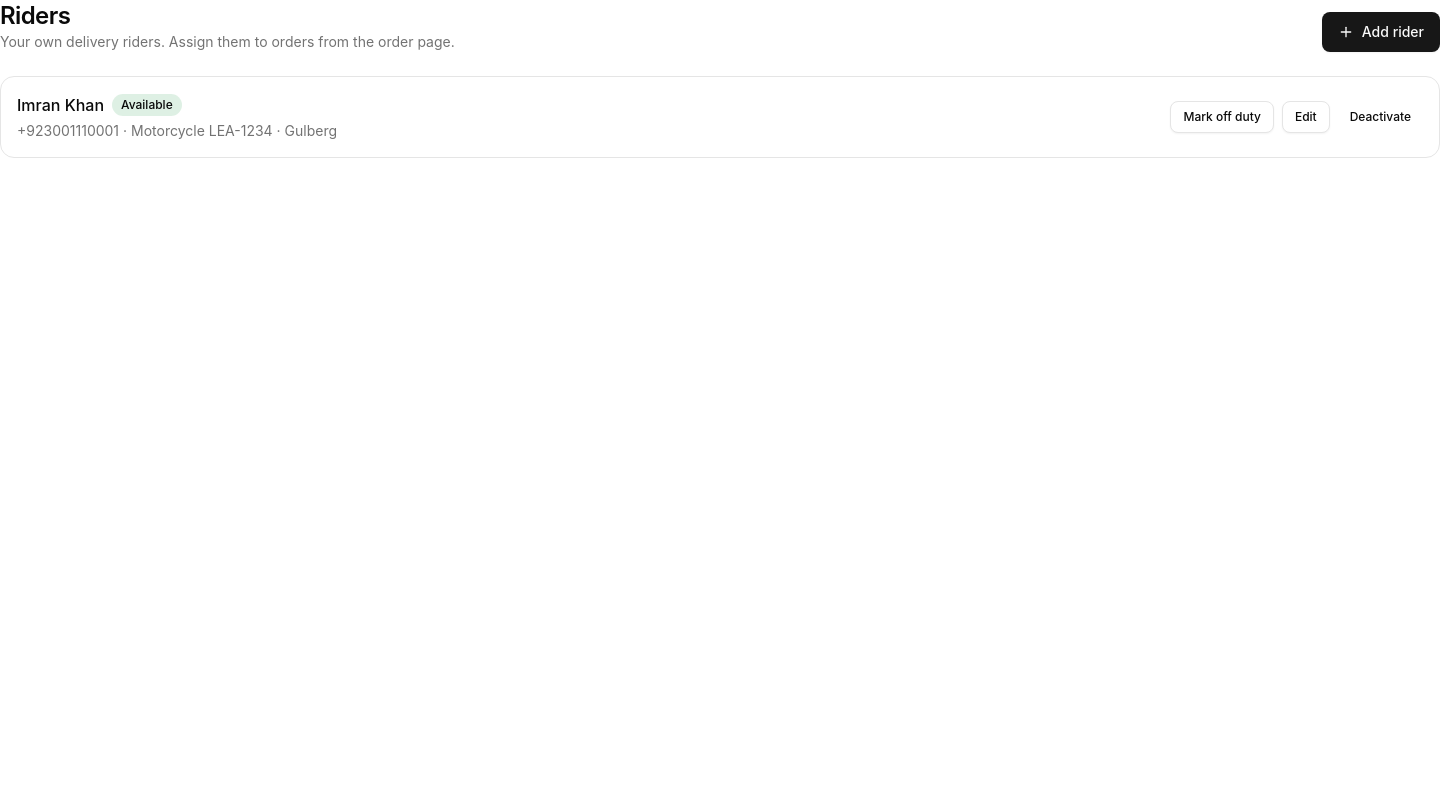
Scenario: RidersPage › adds a rider with a normalised phone number
The image size is (1440, 810).
Click the button "Add rider" at (1381, 32), box [1322,12,1439,52]
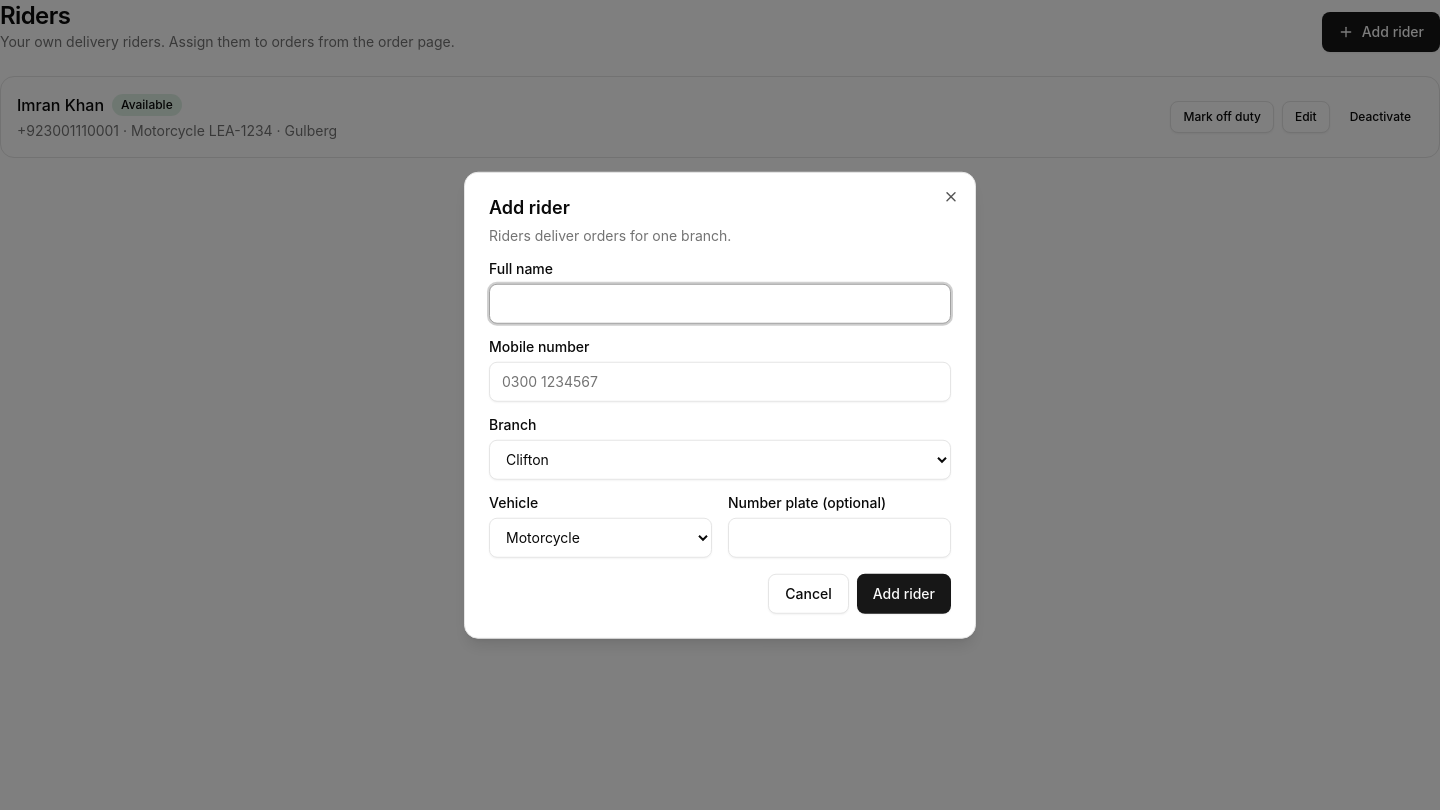
Click the button "Add rider" at (904, 593), box [857,573,951,613]
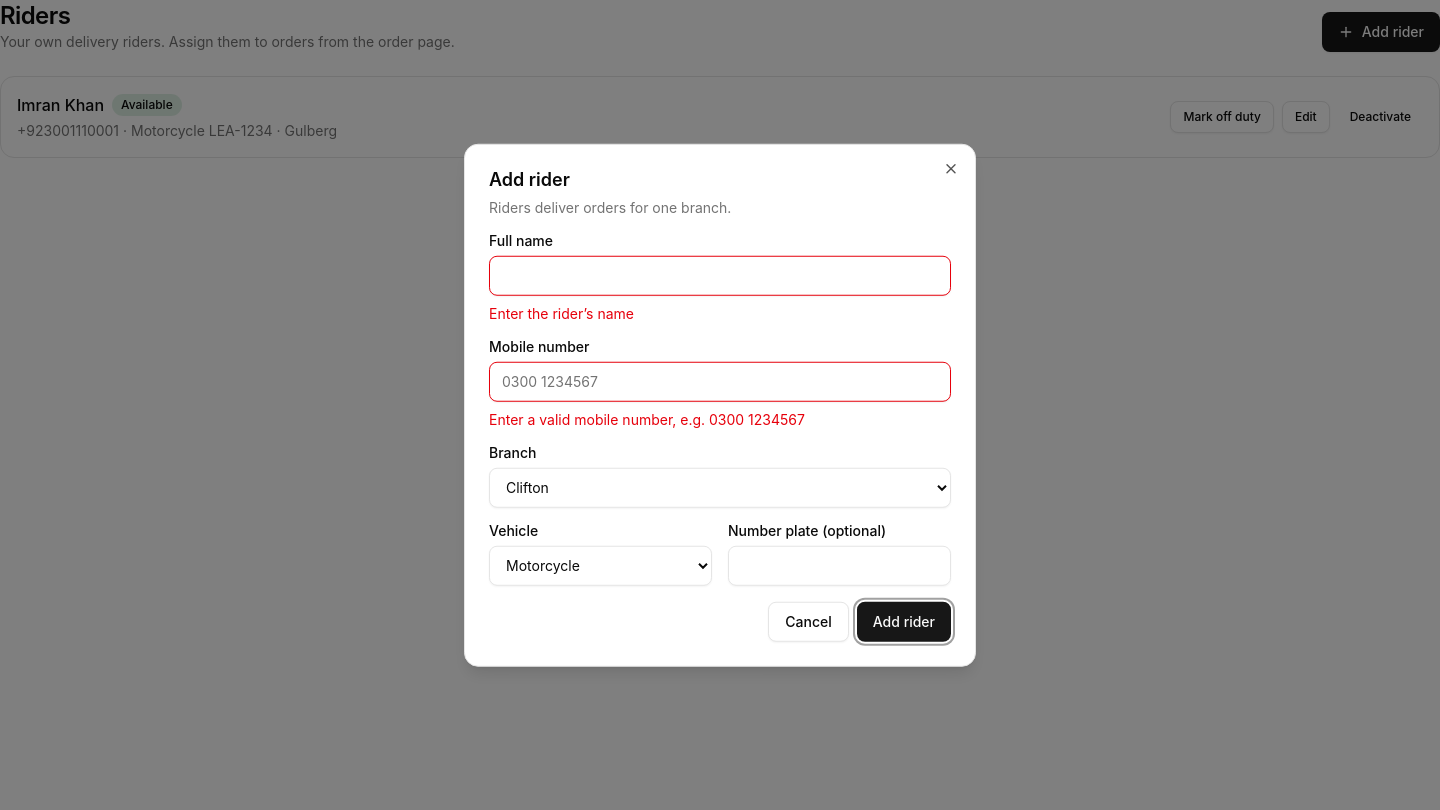
expect the text "Enter the rider’s name" is shown: met, box [489,304,634,321]
expect the text "Enter a valid mobile number, e.g. 0300 1234567" is shown: met, box [489,410,805,427]
Type "Sana Rafiq" into the field labelled "Full name" at (720, 275), box [489,255,951,295]
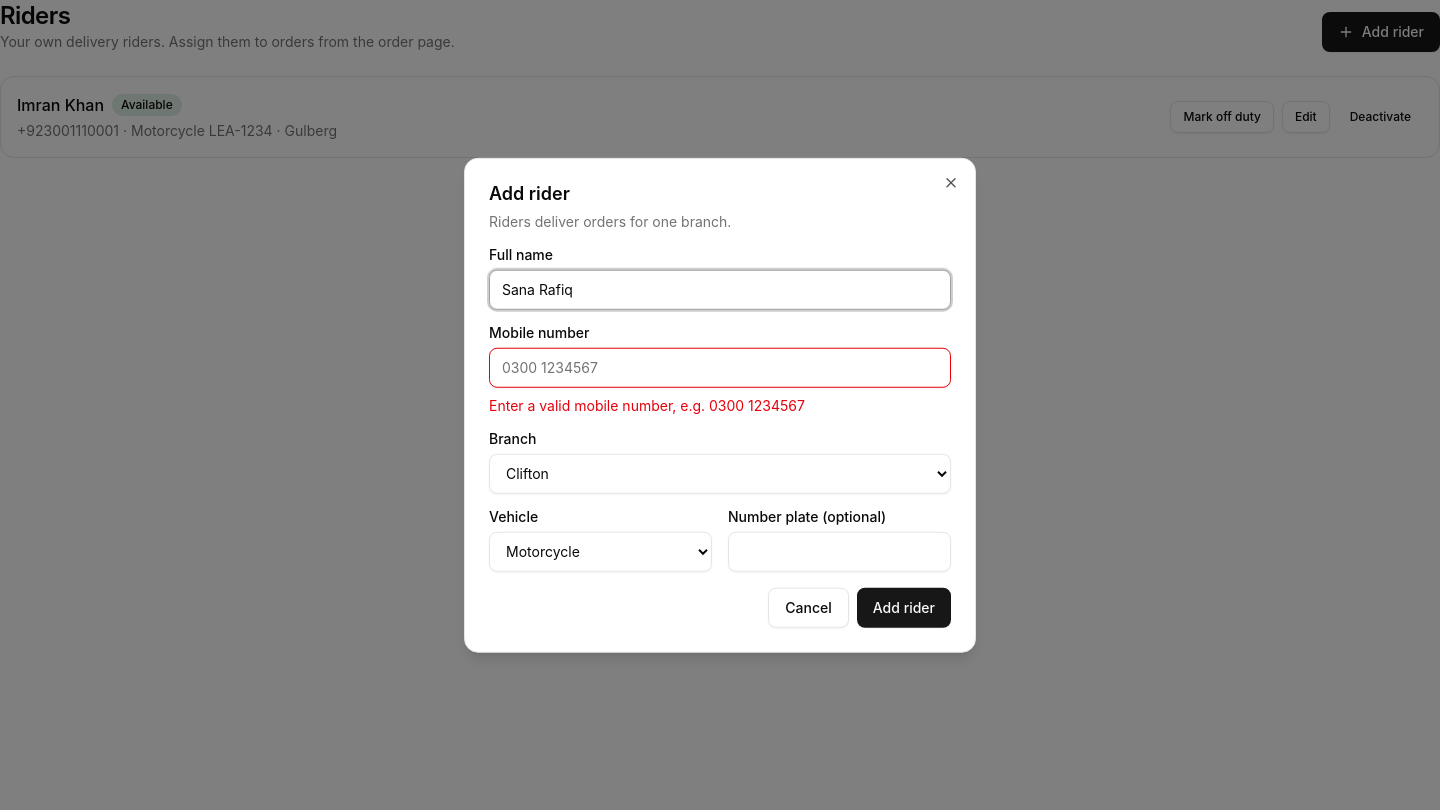
Type "0321 7654321" into the field labelled "Mobile number" at (720, 367), box [489,347,951,387]
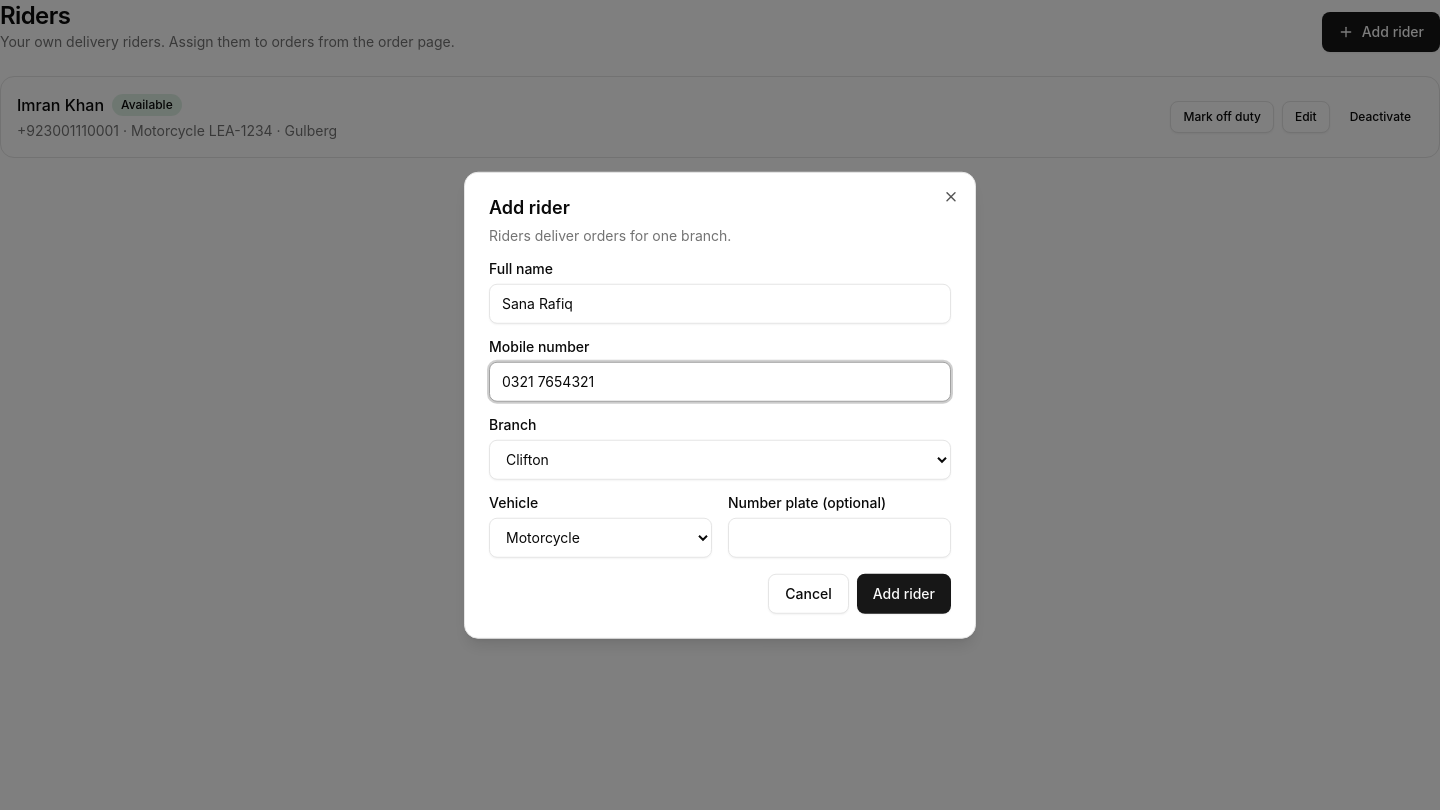
Type "lhr-99" into the field labelled "Number plate (optional)" at (840, 537), box [728,517,951,557]
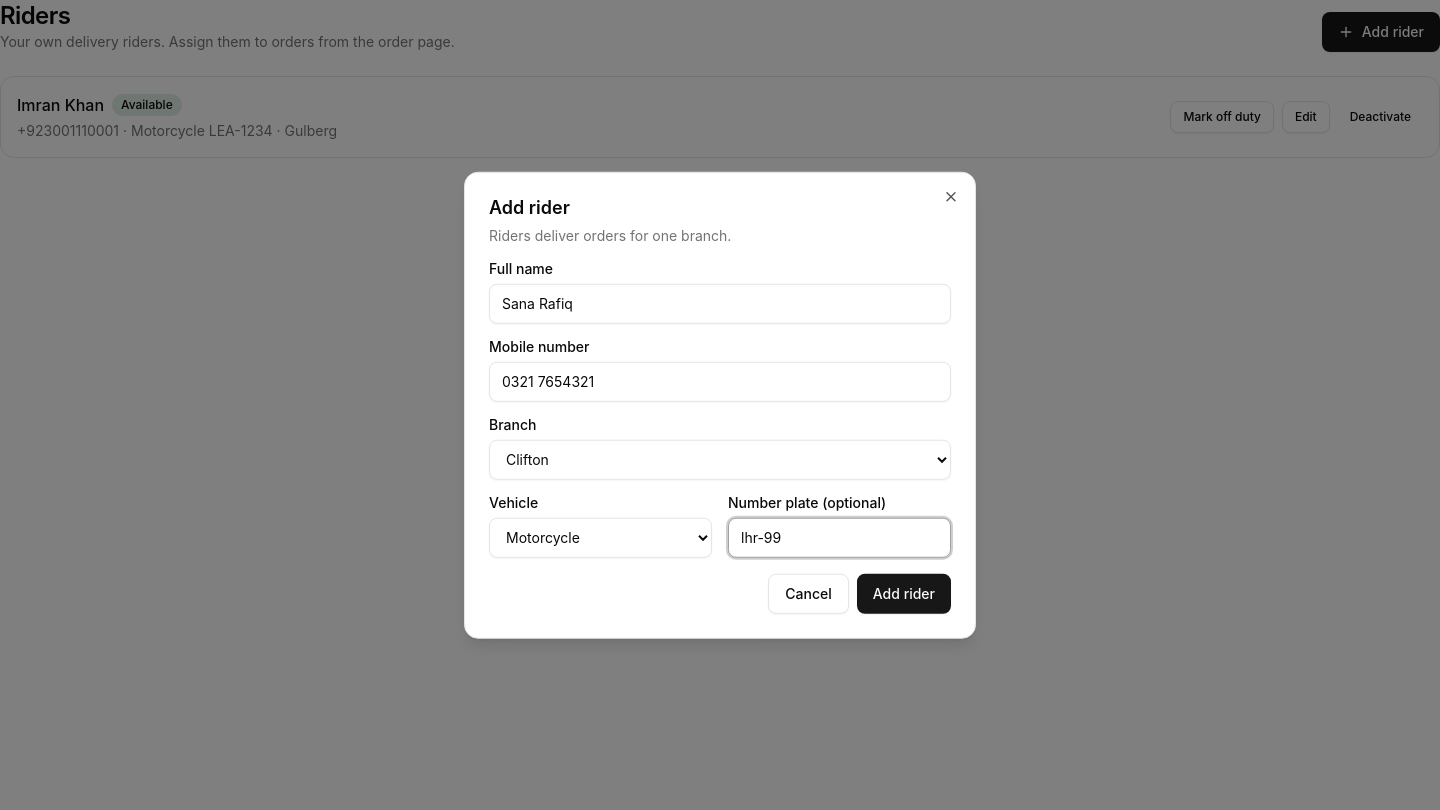
Click the button "Add rider" at (904, 593), box [857,573,951,613]
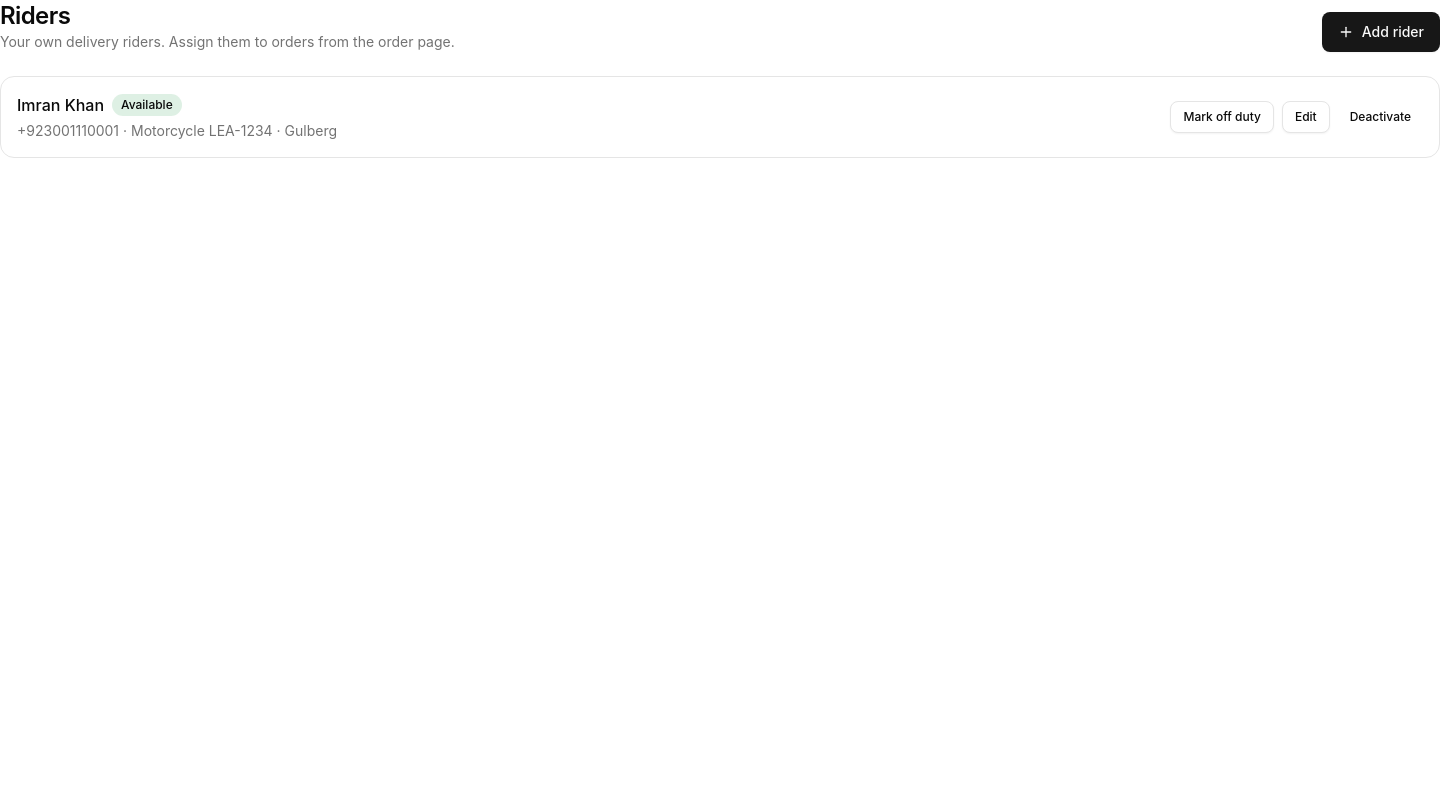
expect the dialog is gone: met
